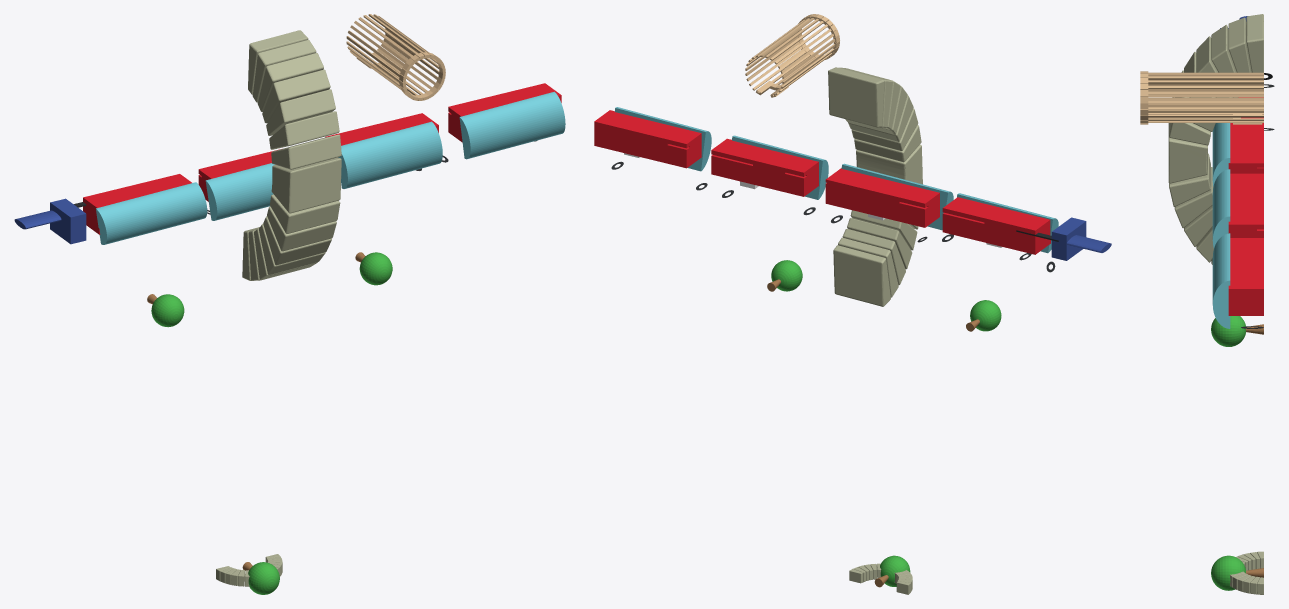
File: tinker.obj
3 views of the same model, side by side, from view 1: azimuth 30°, elevation 25°; view 2: azimuth 150°, elevation 25°; view 3: azimuth 270°, elevation 25° (orthographic). The views are drawn at different scales.
Parts seen in each view (by area): view 1: group_0_11909273, group_0_7720667, group_0_15277357, group_0_14860437, group_0_4634441, group_0_3888547; view 2: group_0_15277357, group_0_11909273, group_0_14860437, group_0_7720667, group_0_4634441, group_0_3888547; view 3: group_0_11909273, group_0_15277357, group_0_14860437, group_0_7720667, group_0_4634441, group_0_11107152.
Boxes of the visible parts, <box> form: group_0_11909273: <box>216,30,341,586</box>; group_0_7720667: <box>96,91,565,244</box>; group_0_15277357: <box>83,83,561,234</box>; group_0_14860437: <box>346,14,445,100</box>; group_0_4634441: <box>151,252,392,594</box>; group_0_3888547: <box>14,198,86,244</box>; group_0_15277357: <box>594,110,1050,254</box>; group_0_11909273: <box>828,67,922,594</box>; group_0_14860437: <box>745,14,839,97</box>; group_0_7720667: <box>614,107,1058,253</box>; group_0_4634441: <box>771,260,1001,586</box>; group_0_3888547: <box>1051,217,1111,260</box>; group_0_11909273: <box>1168,14,1263,594</box>; group_0_15277357: <box>1228,97,1263,315</box>; group_0_14860437: <box>1140,71,1263,124</box>; group_0_7720667: <box>1212,123,1230,328</box>; group_0_4634441: <box>1211,316,1245,590</box>; group_0_11107152: <box>1246,324,1263,577</box>.
Size of the model in its own units: 372 by 361 by 76.
